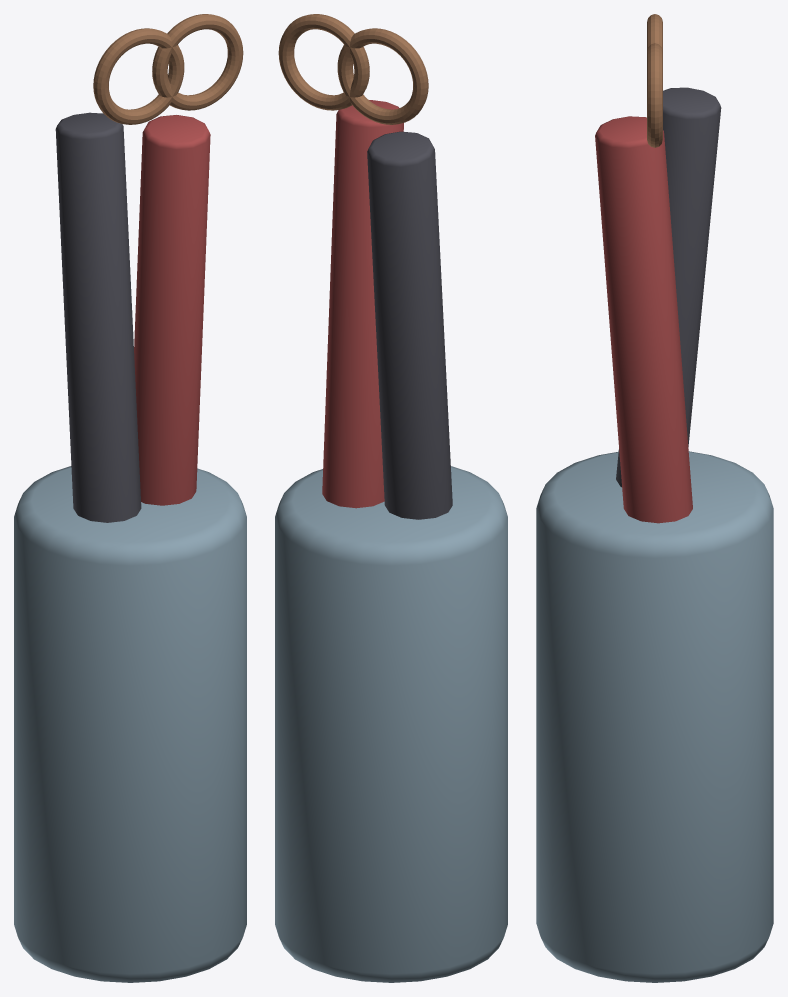
Rendered from v2_umbrella_stand.fbx.
3 renders of one model, left to right at view 1: azimuth 30°, elevation 25°; view 2: azimuth 150°, elevation 25°; view 3: azimuth 270°, elevation 25°, orthographic.
Parts seen in each view (by area): view 1: StandPot, Umbrella0, Umbrella1, Handle1, Handle0; view 2: StandPot, Umbrella0, Umbrella1, Handle1, Handle0; view 3: StandPot, Umbrella1, Umbrella0, Handle1.
Part boxes in pixels (<box>): StandPot: <box>14,466,246,982</box>; Umbrella0: <box>55,112,141,522</box>; Umbrella1: <box>134,115,210,505</box>; Handle1: <box>152,14,243,110</box>; Handle0: <box>93,28,184,124</box>; StandPot: <box>275,466,507,982</box>; Umbrella0: <box>367,131,452,519</box>; Umbrella1: <box>322,100,403,508</box>; Handle1: <box>278,14,369,110</box>; Handle0: <box>337,28,428,124</box>; StandPot: <box>536,451,773,982</box>; Umbrella1: <box>595,116,692,523</box>; Umbrella0: <box>616,87,721,487</box>; Handle1: <box>647,43,662,147</box>.
Bounding box in the file's own units: 0.253 × 1.03 × 0.24.
